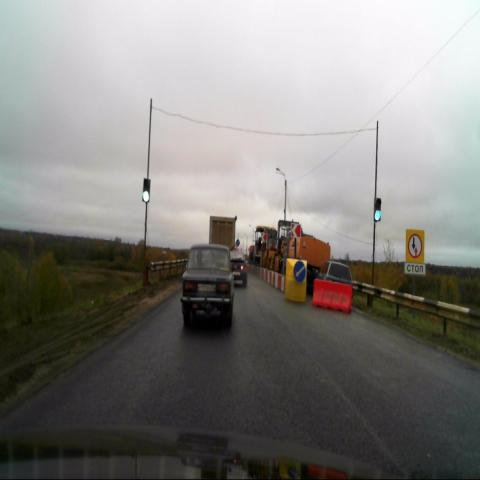2_6: (406, 229, 424, 263)
4_2_2: (293, 260, 306, 284)
